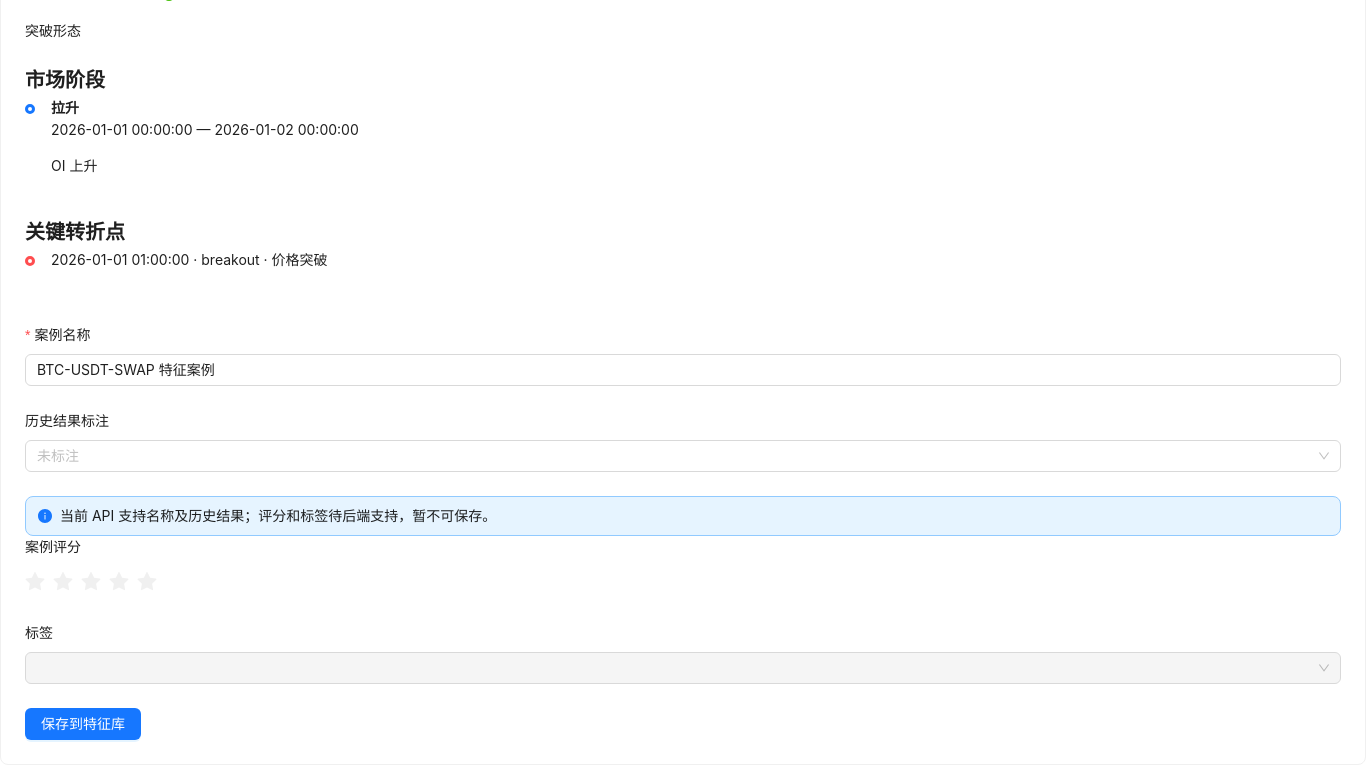
Test: loads backend stages and saves only supported case fields
(page scrolled)
Expected: the text "突破形态" is shown, [25,22,81,39]
Click the button "保存到特征库" at (83, 724), box [25,708,141,740]
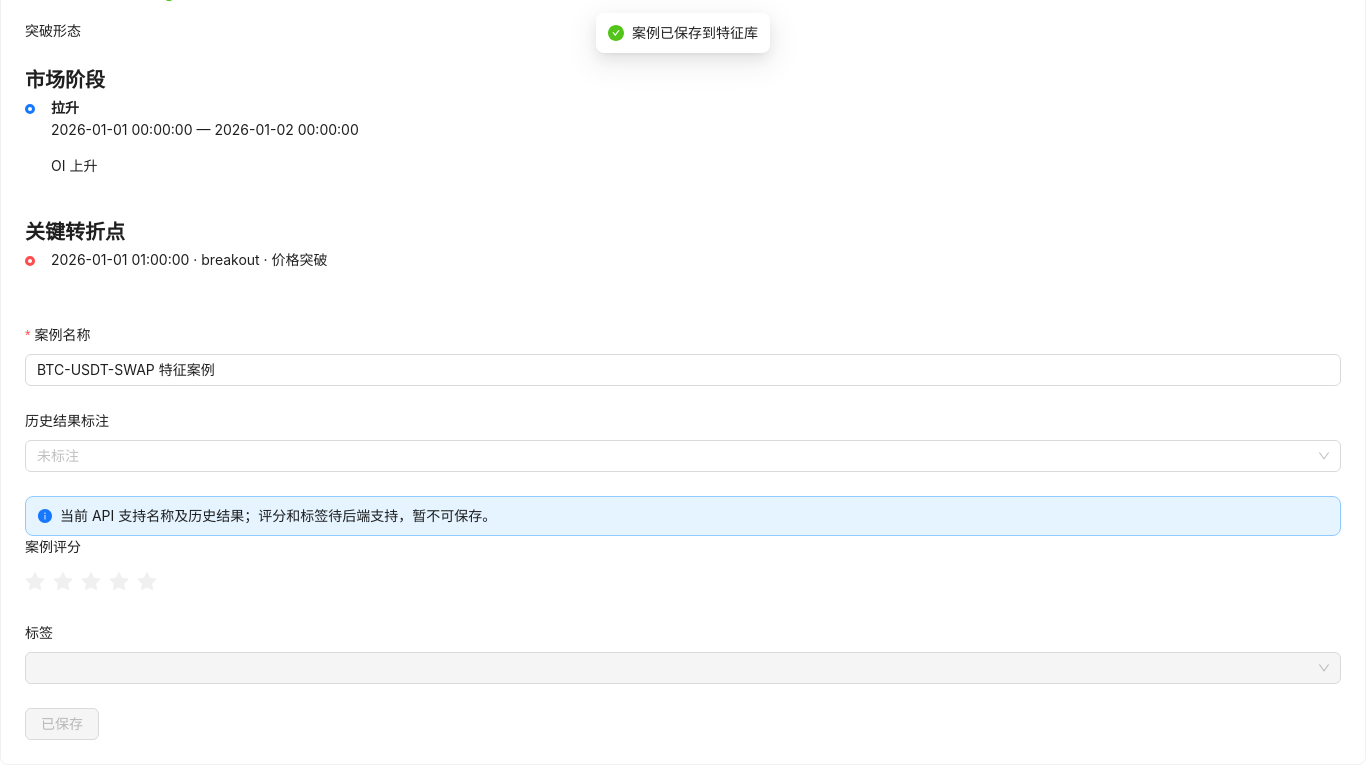
Expected: the text "当前 API 支持名称及历史结果；评分和标签待后端支持，暂不可保存。" is shown, [60,507,496,524]
Result: the button "已保存" is shown at [25,708,99,740]
